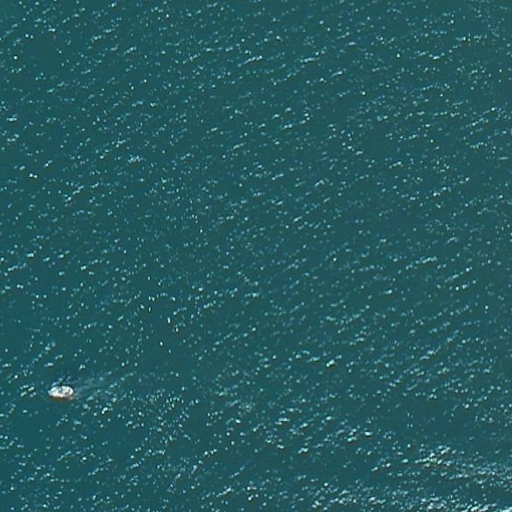ship: (44, 382, 76, 401)
